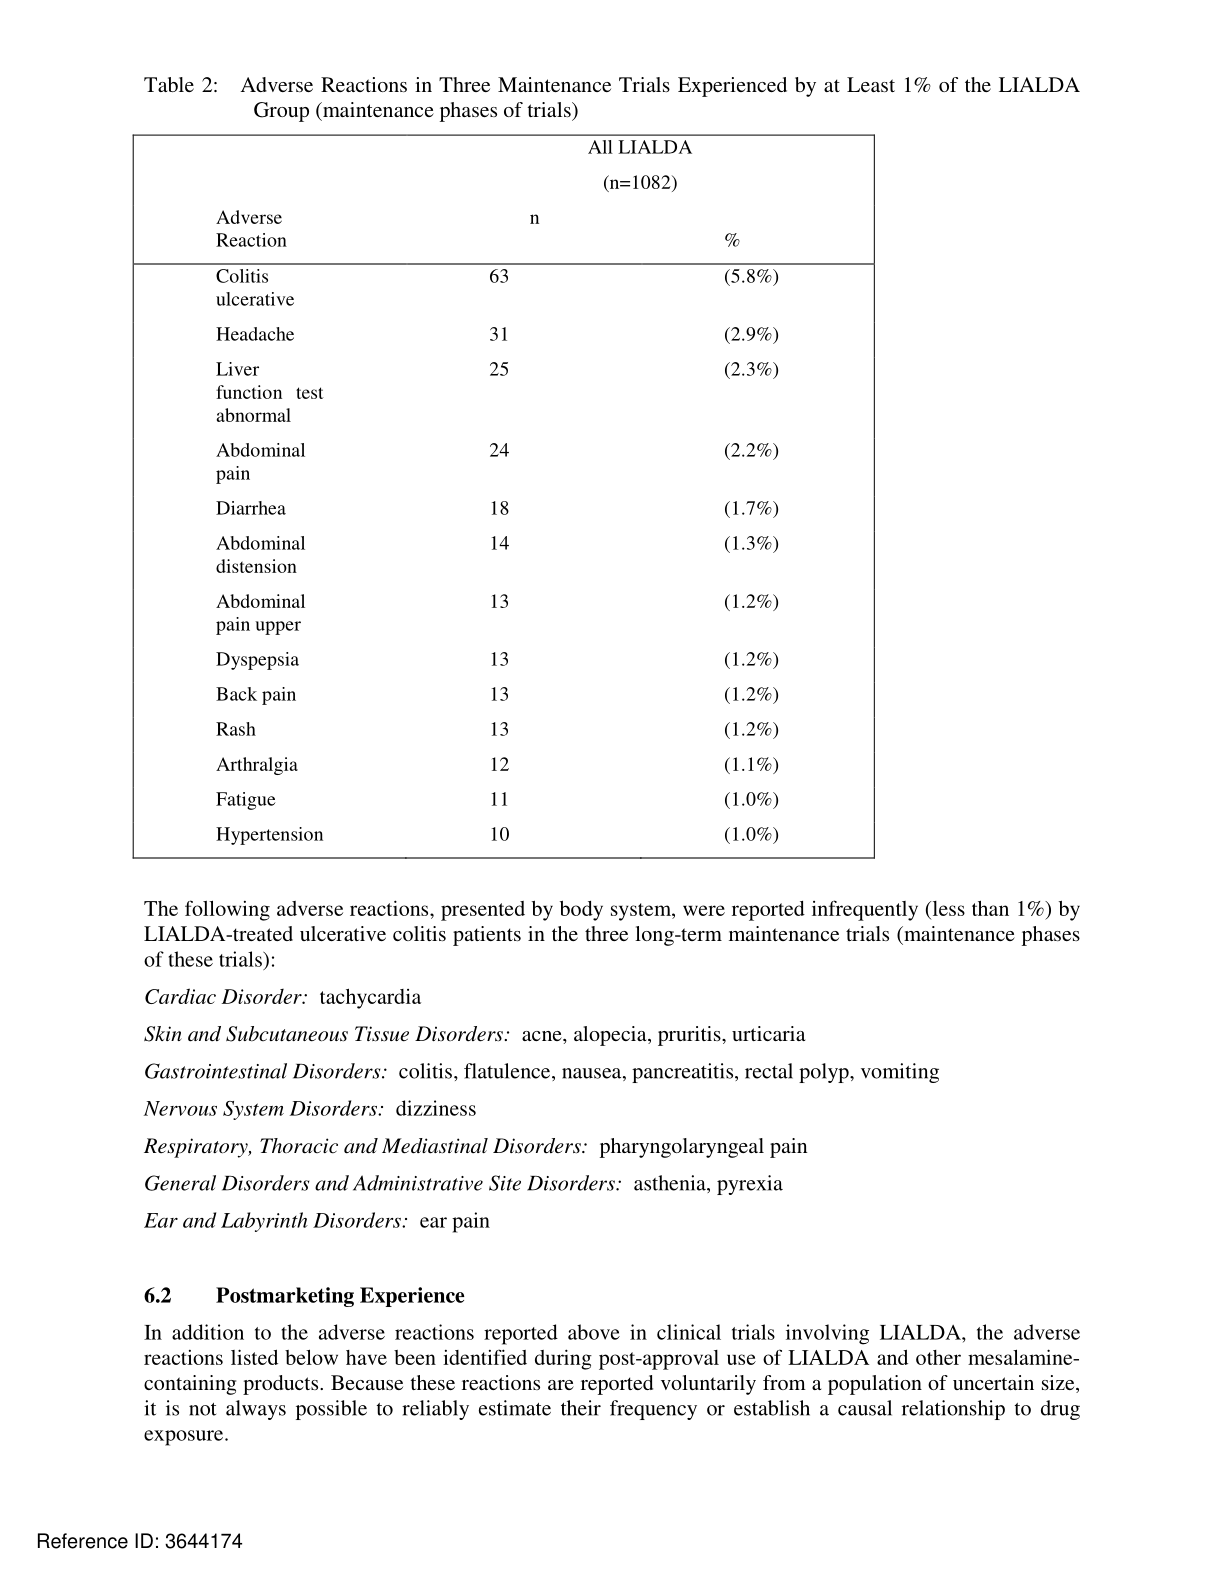partial_lined_merged_cells: (132, 132, 878, 861)
